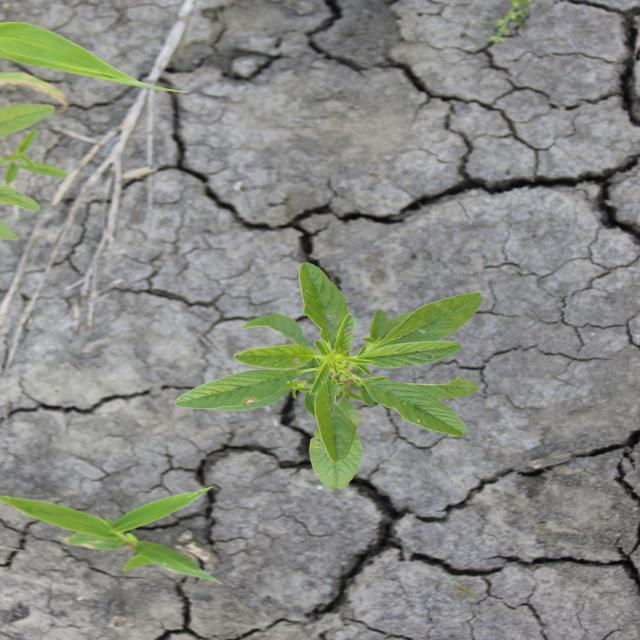Waterhemp: (172, 262, 486, 492)
